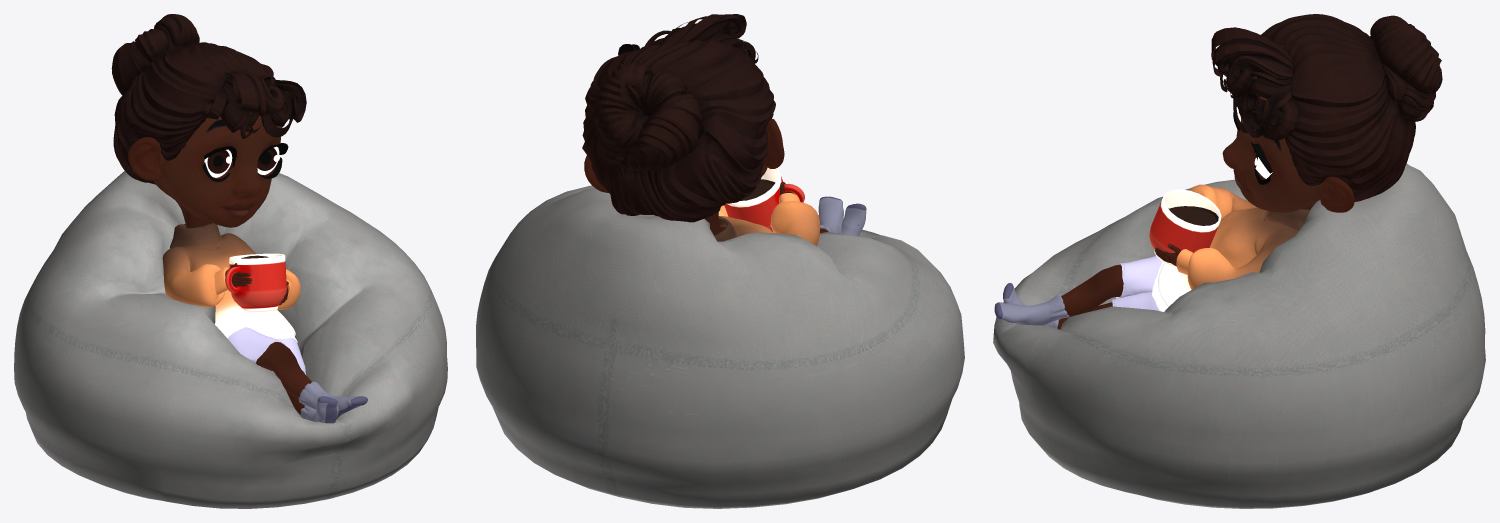
The model's file is coffee-evening.glb.
The picture shows the model from 3 angles, left to right: view 1: azimuth 30°, elevation 25°; view 2: azimuth 150°, elevation 25°; view 3: azimuth 270°, elevation 25°; orthographic projection. The views are drawn at different scales.
Parts seen in each view (by area): view 1: Object_5, Object_3, Object_8, Object_12, Object_4, Object_11, Object_14; view 2: Object_5, Object_3, Object_12, Object_4, Object_8; view 3: Object_5, Object_3, Object_12, Object_8, Object_4, Object_16.
Boxes of the visible parts, left/top/right/bottom form: Object_5: left=14, top=171, right=447, bottom=508; Object_3: left=111, top=14, right=306, bottom=184; Object_8: left=128, top=112, right=322, bottom=414; Object_12: left=162, top=220, right=367, bottom=423; Object_4: left=225, top=253, right=286, bottom=311; Object_11: left=202, top=143, right=288, bottom=181; Object_14: left=207, top=148, right=277, bottom=173; Object_5: left=476, top=185, right=964, bottom=508; Object_3: left=582, top=14, right=775, bottom=222; Object_12: left=714, top=193, right=866, bottom=246; Object_4: left=724, top=167, right=804, bottom=232; Object_8: left=584, top=118, right=858, bottom=235; Object_5: left=993, top=163, right=1485, bottom=508; Object_3: left=1211, top=14, right=1442, bottom=201; Object_12: left=994, top=184, right=1317, bottom=328; Object_8: left=1057, top=76, right=1354, bottom=329; Object_4: left=1149, top=189, right=1221, bottom=267; Object_16: left=1168, top=206, right=1218, bottom=225.
Size of the model in its own units: 118 by 110 by 121.
Materials: 11 (5 with a texture image).
